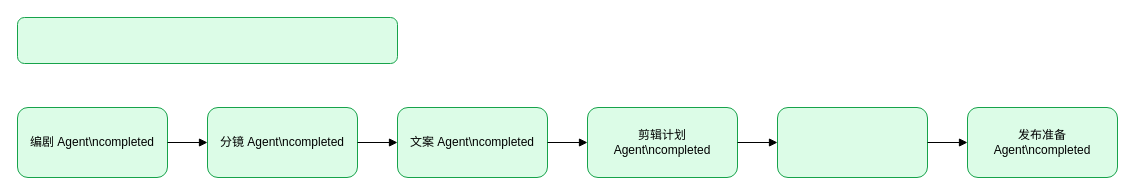
Some shapes in this 1135 by 195 pixel diagram are drawn without their labels. Here are the shapes that lost their labels. From the top down, the centre of each, then its label:
pixel 207 40: V4.3 Video Workflow Status
pixel 852 142: 质量审查 Agent\ncompleted
